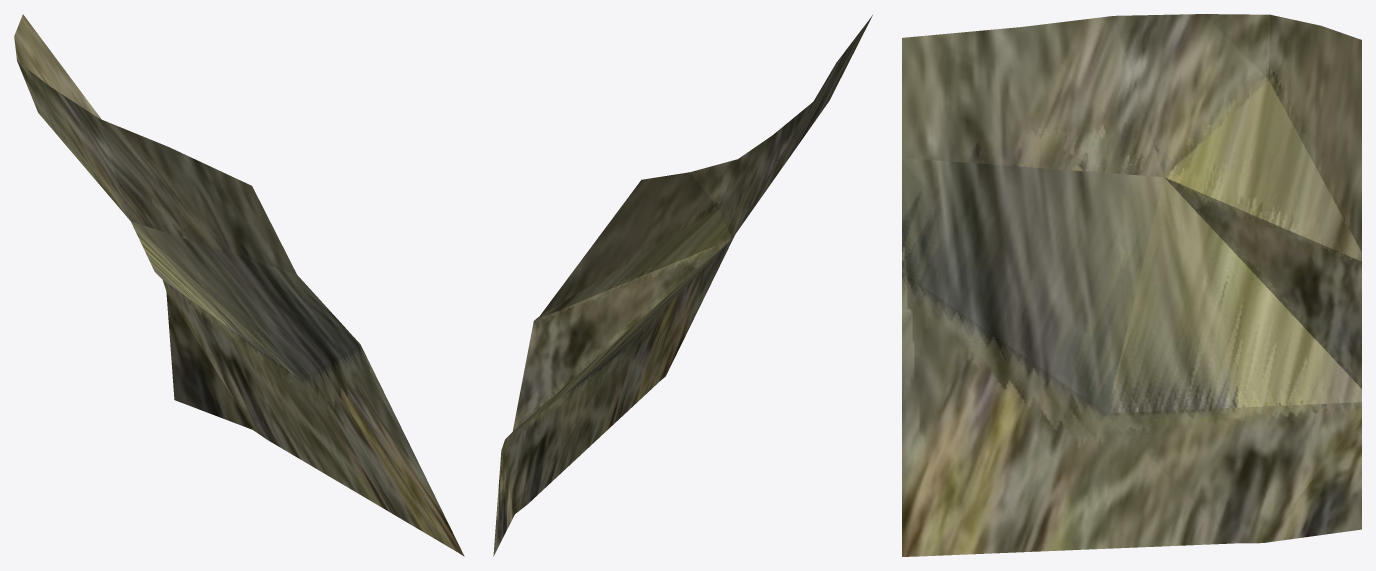
3 renders of one model, left to right at view 1: azimuth 30°, elevation 25°; view 2: azimuth 150°, elevation 25°; view 3: azimuth 270°, elevation 25°, orthographic. The views are drawn at different scales.
Size of the model in its own units: 1.91 by 2.95 by 2.95.
4 materials, 4 textured.
